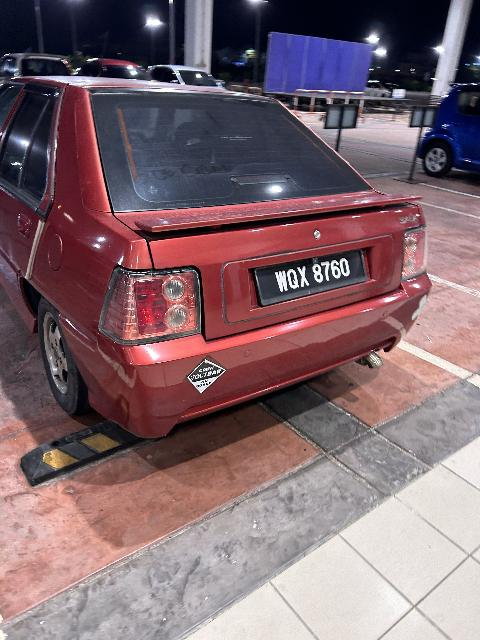License_Plate: (254, 249, 371, 313)
car: (6, 75, 432, 448)
